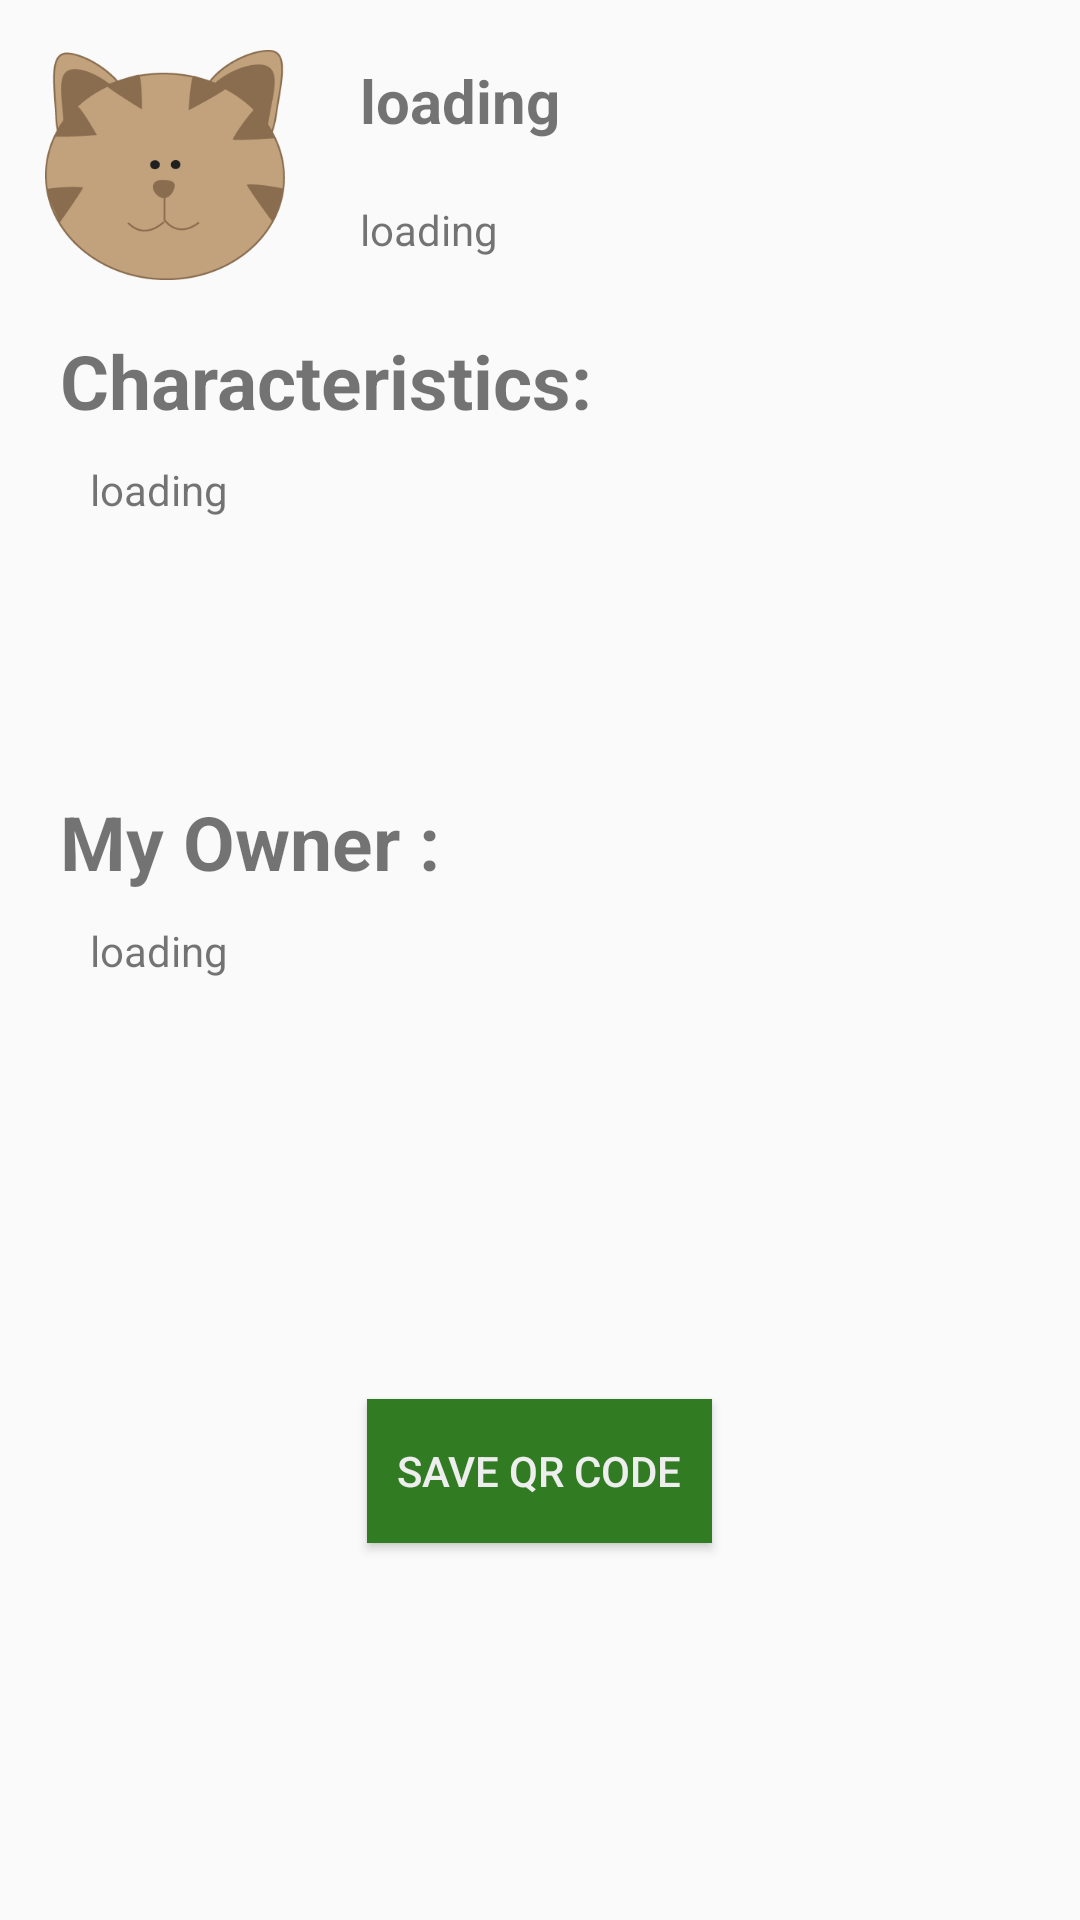

Point at icon controls on the screen. Image size 1080 x 1920, points as [x,y].
cat: [165,165]
